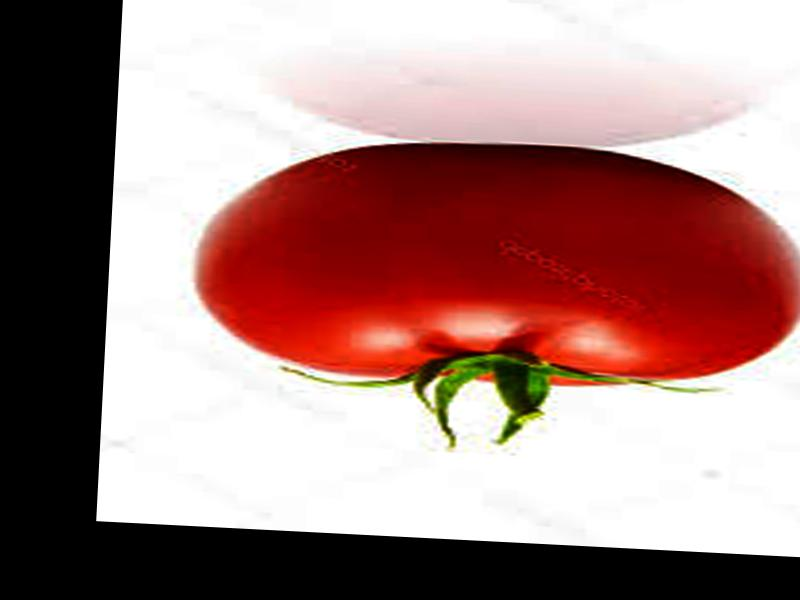Tomato: (187, 129, 800, 397)
